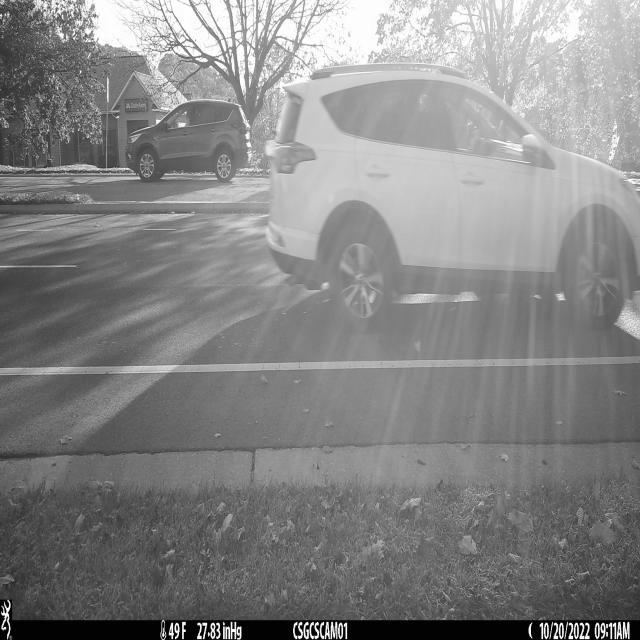SUV: (266, 64, 640, 333)
